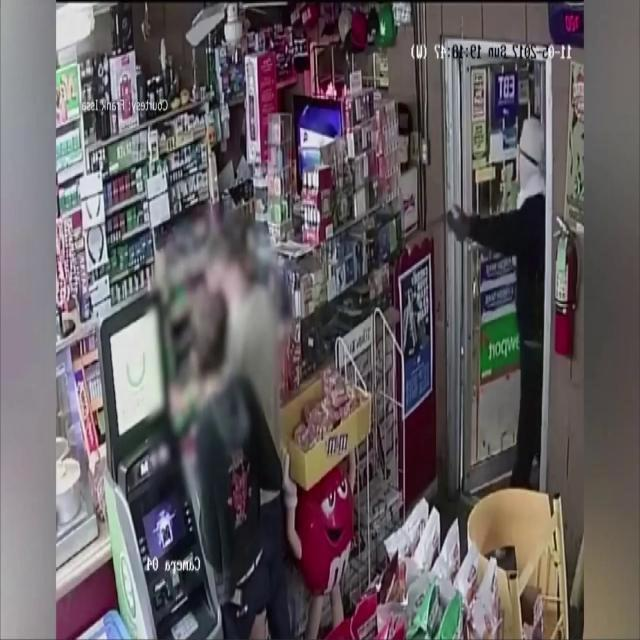weapon: (426, 202, 465, 235)
